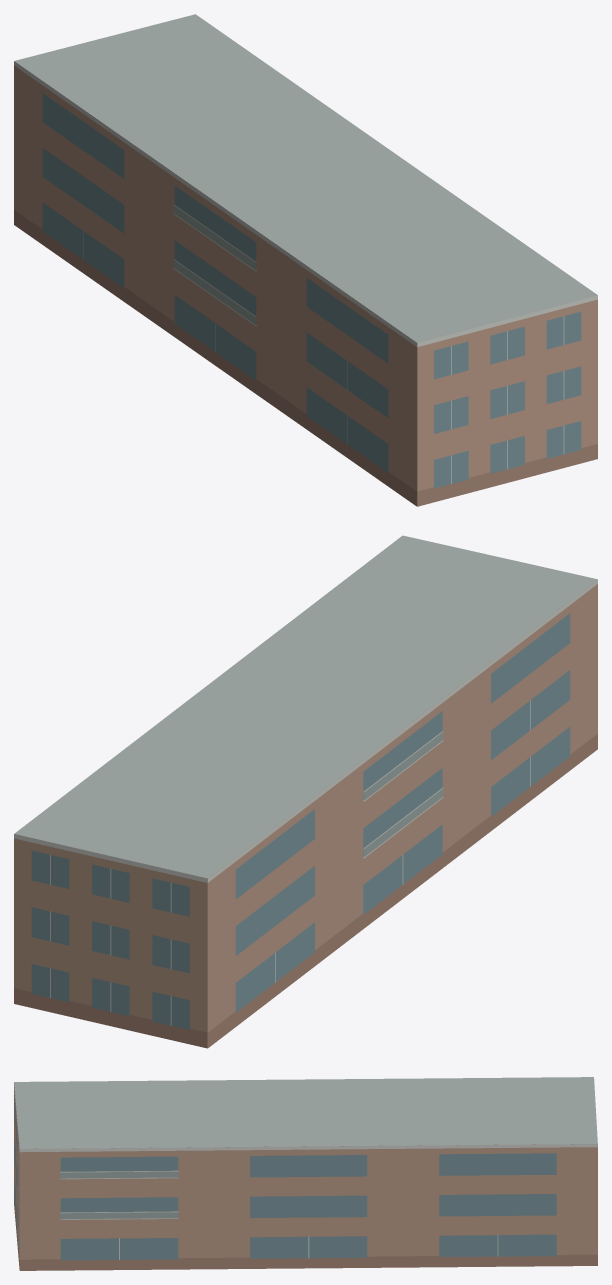
File: survey-upis-32762314.glb
3 renders of one model, top to bottom at view 1: azimuth 30°, elevation 25°; view 2: azimuth 150°, elevation 25°; view 3: azimuth 270°, elevation 25°, orthographic. The views are drawn at different scales.
Visible parts, largest first — view 1: survey-upis-32762314.tmp; view 2: survey-upis-32762314.tmp; view 3: survey-upis-32762314.tmp.
Boxes of the visible parts, bbox=[...] form: survey-upis-32762314.tmp: bbox=[14, 14, 597, 506]; survey-upis-32762314.tmp: bbox=[14, 535, 597, 1048]; survey-upis-32762314.tmp: bbox=[14, 1077, 597, 1270].
Bounding box in the file's own units: 11.58 × 9.15 × 39.7.
